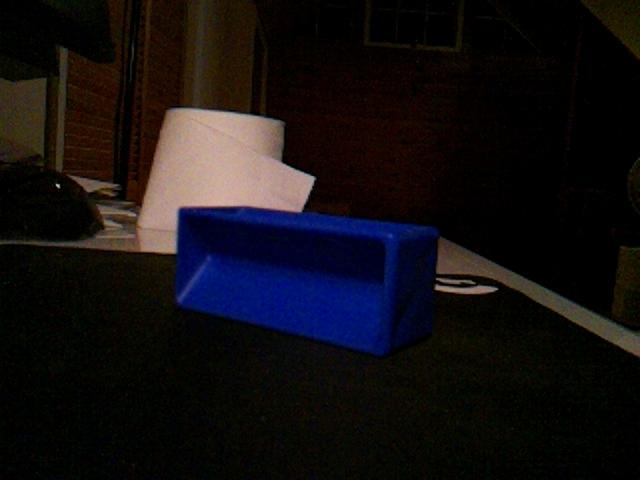blue: (173, 204, 441, 358)
